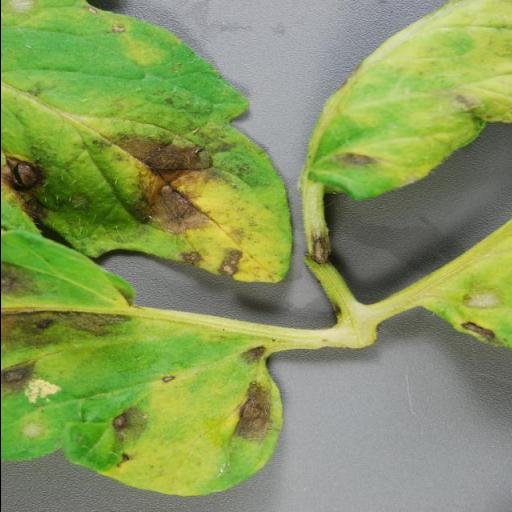disease_tomato: (0, 0, 296, 285)
